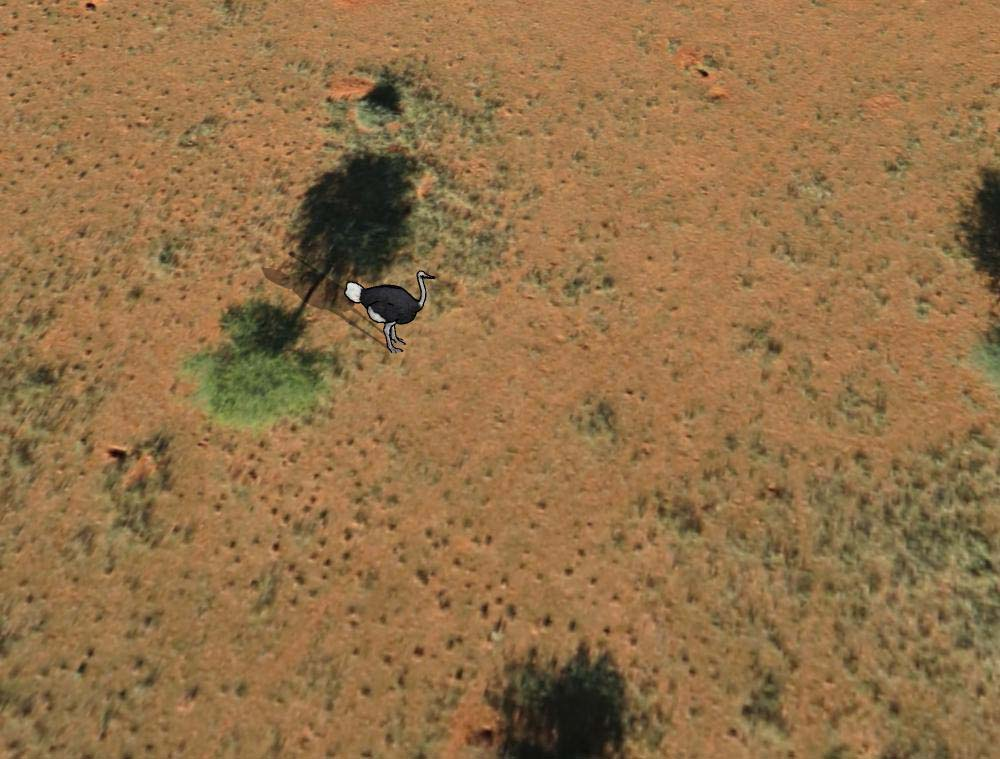springbok: (344, 263, 434, 359)
